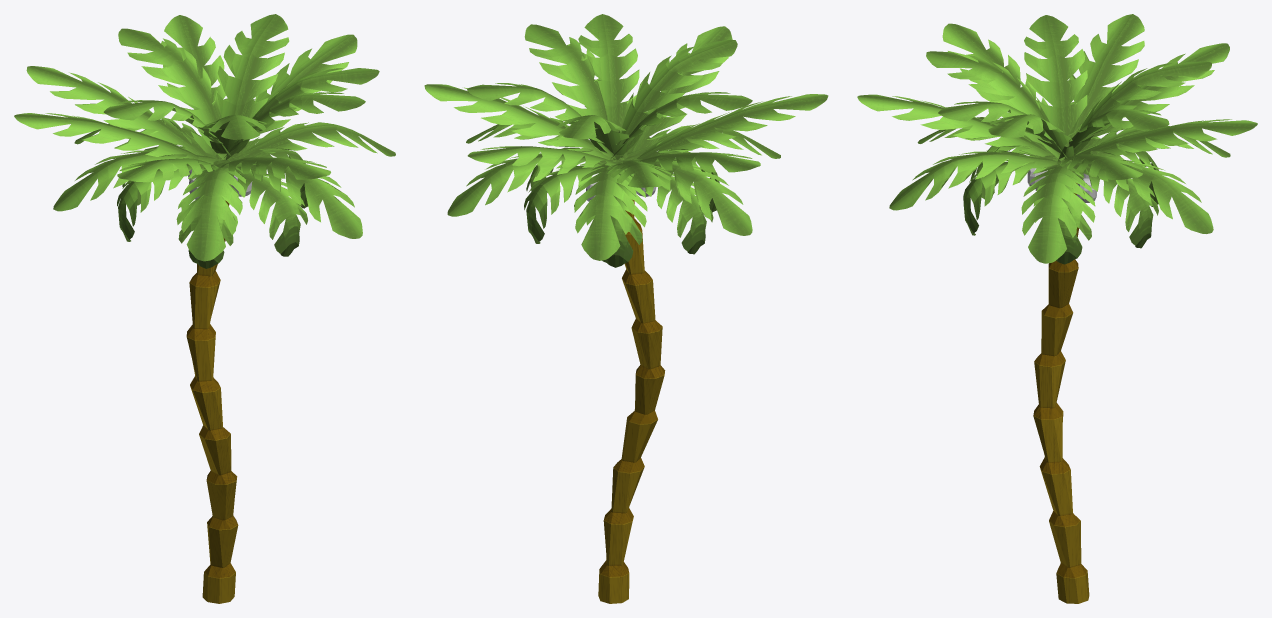
Rendered from StraightPalm.FBX.
3 views of the same model, side by side, from view 1: azimuth 30°, elevation 25°; view 2: azimuth 150°, elevation 25°; view 3: azimuth 270°, elevation 25° (orthographic).
Parts seen in each view (by area): view 1: StraightPalm; view 2: StraightPalm; view 3: StraightPalm.
Part boxes in pixels (x1=…): StraightPalm: x1=14, y1=14, x2=395, y2=603; StraightPalm: x1=424, y1=14, x2=828, y2=603; StraightPalm: x1=857, y1=14, x2=1257, y2=603.
Size of the model in its own units: 8.78 by 9.05 by 12.98.
